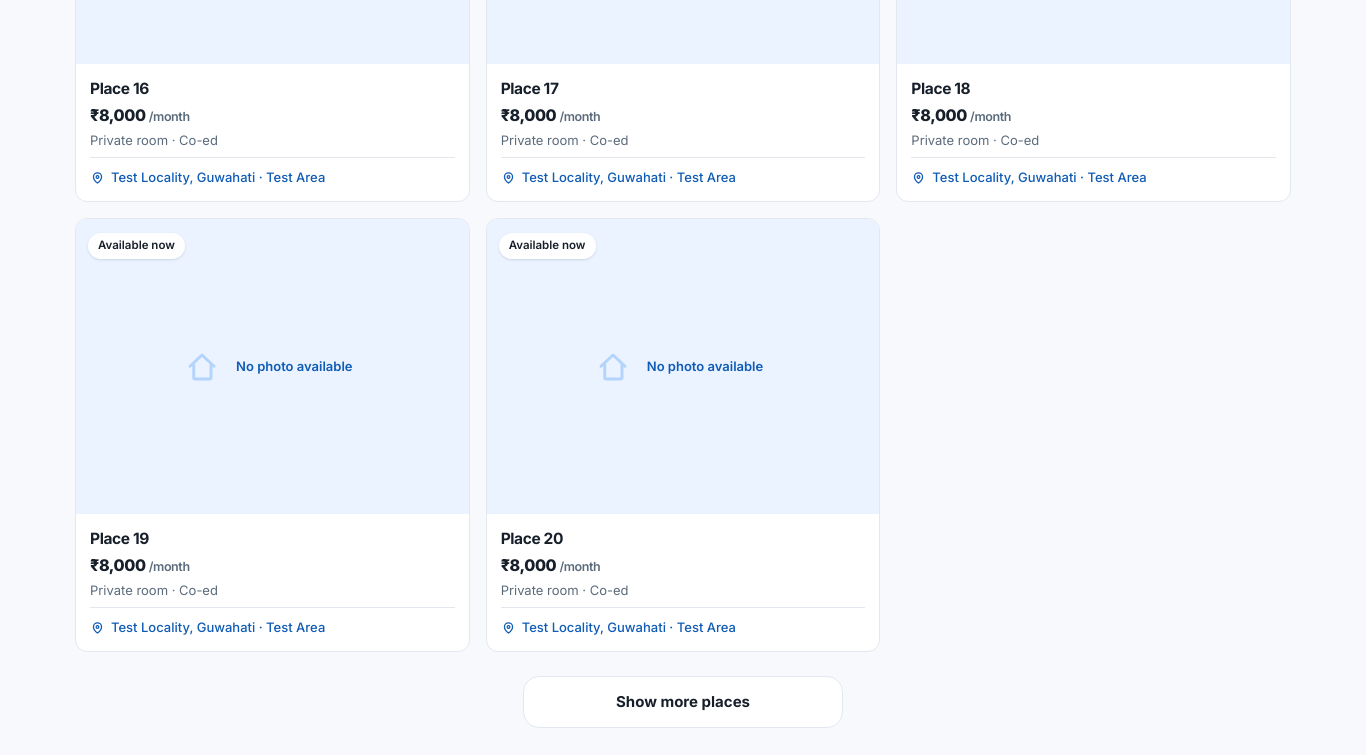
Test: public browse page › keeps earlier results when an appended page fails, then retries it
The image size is (1366, 755).
(page scrolled)
Step 1. Click the button "Show more places" → [683, 702], box [523,676,843,728]
(page scrolled)
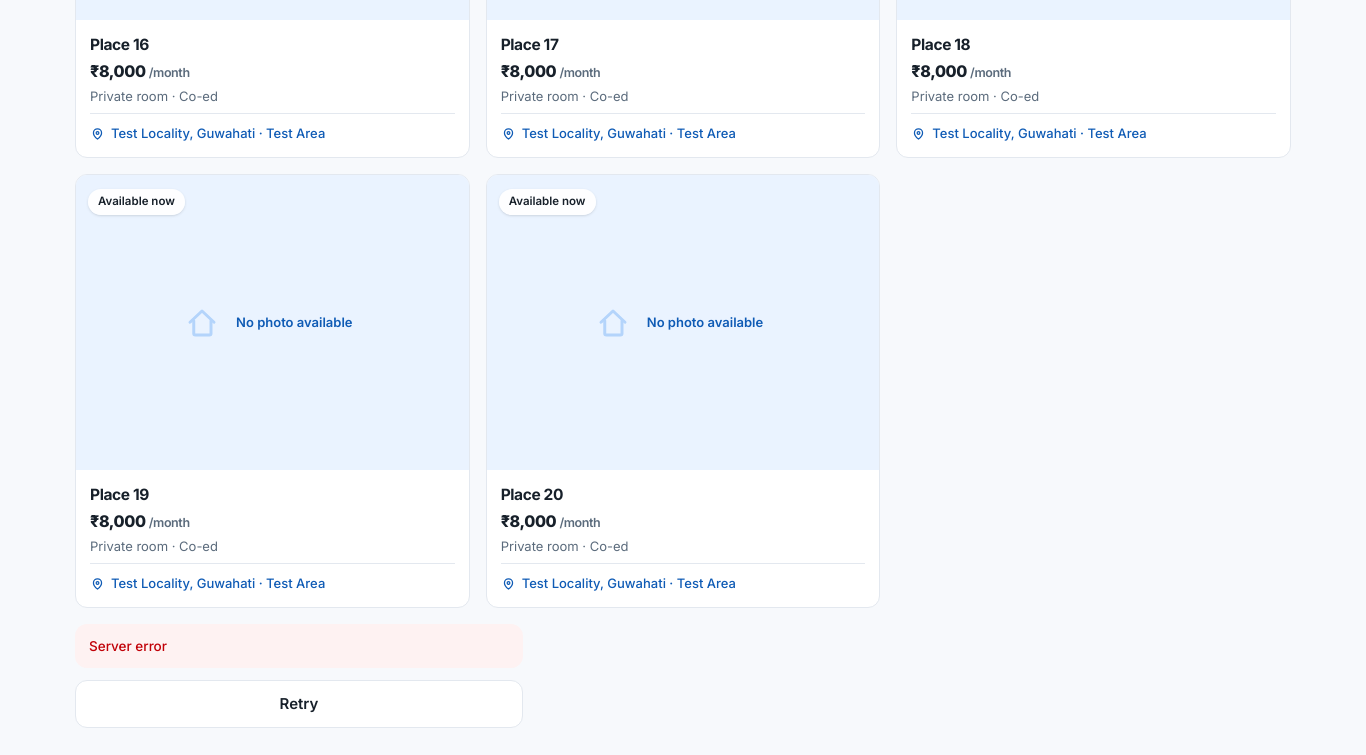
Expected: the heading "Place 20" is shown, [501,485,563,504]
Expected: the text "Server error" is shown, [75,624,523,668]
Step 2. Click the button "Retry" → [299, 704], box [75,680,523,728]
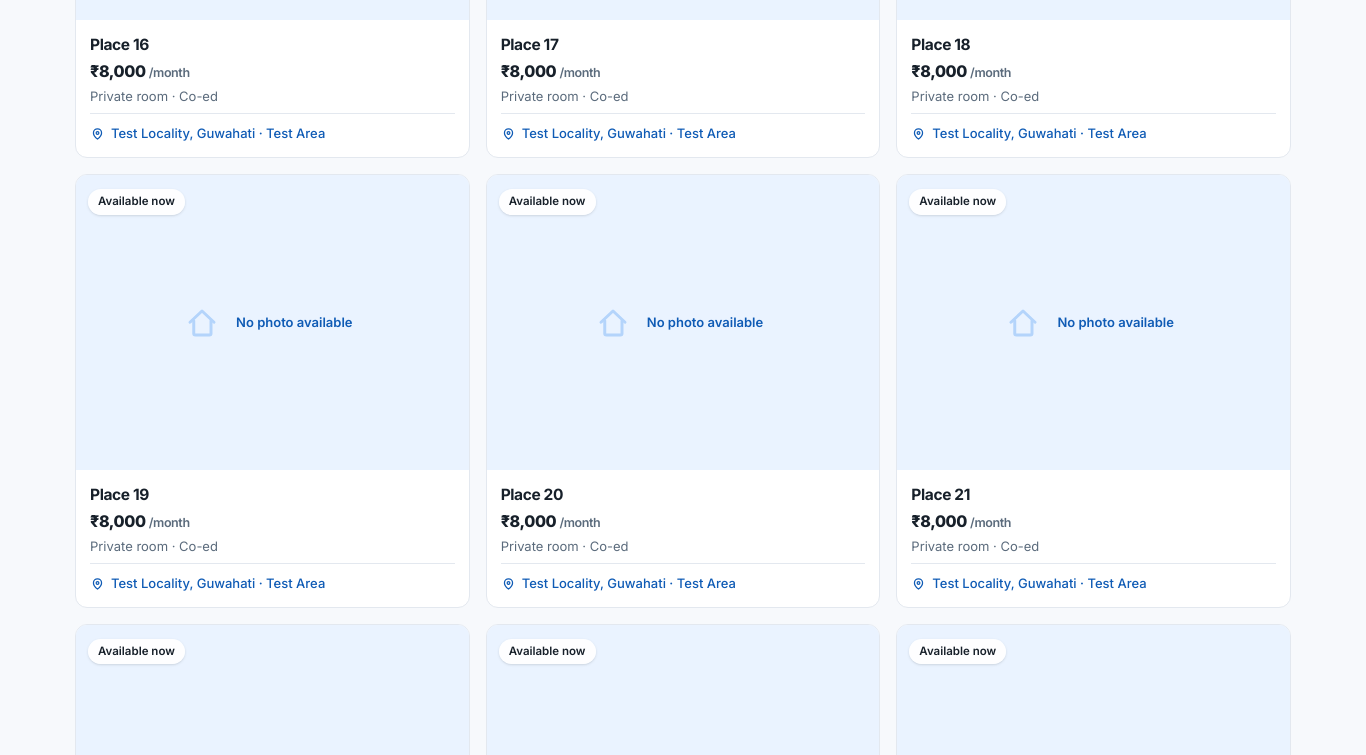
Expected: the heading "Place 21" is shown, [911,485,970,504]
